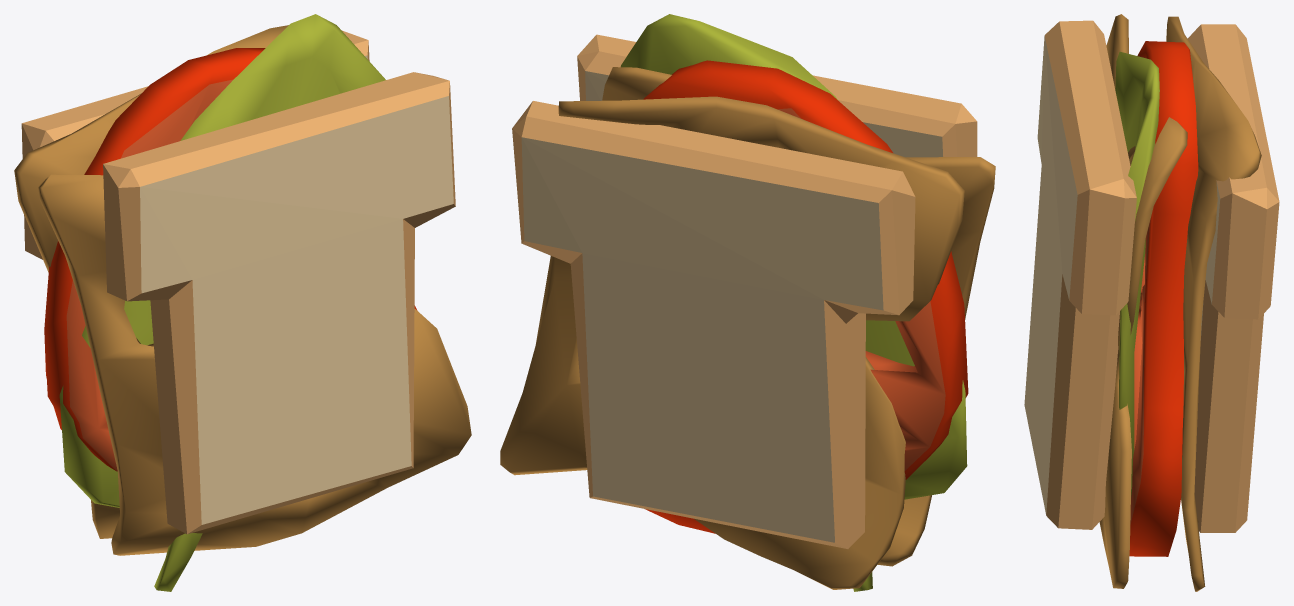
Rendered from OnlySandwich.fbx.
3 views of the same model, side by side, from view 1: azimuth 30°, elevation 25°; view 2: azimuth 150°, elevation 25°; view 3: azimuth 270°, elevation 25° (orthographic). The views are drawn at different scales.
Visible parts, largest first — view 1: FrameSandwich.001; view 2: FrameSandwich.001; view 3: FrameSandwich.001.
Boxes of the visible parts, box(x1,y1,x2,y2) form: FrameSandwich.001: box(14, 14, 471, 591); FrameSandwich.001: box(500, 14, 995, 591); FrameSandwich.001: box(1024, 14, 1279, 591).
Bounding box in the file's own units: 124 × 144 × 63.09.
